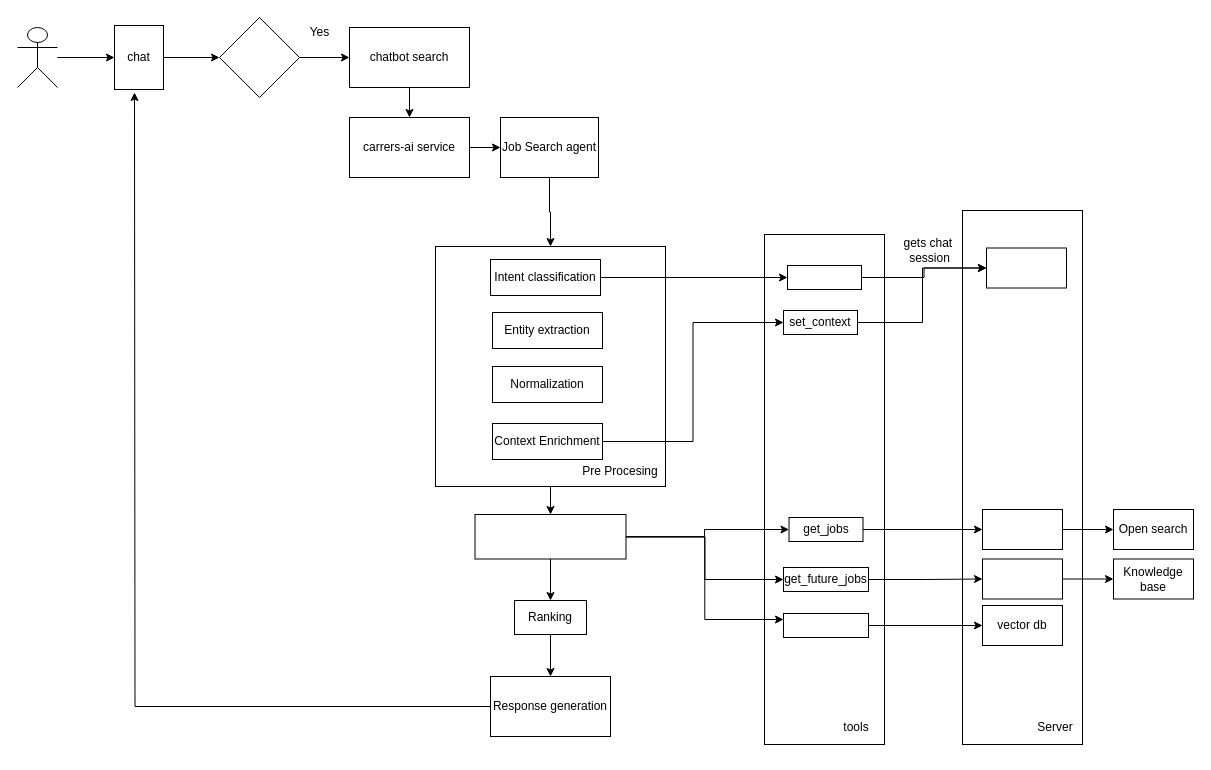
This 1211x770 diagram has some shape labels left out. Here are the shapes that lost their labels. From the top down, the centre of each, then its label:
the point at 37,57: Actor
the point at 259,57: Disclaimer Accepted
the point at 824,277: get_context
the point at 1026,267: Redis
the point at 550,536: Process by Agents
the point at 1022,529: Job Search service
the point at 1022,578: skills Search service
the point at 825,625: get_documents
